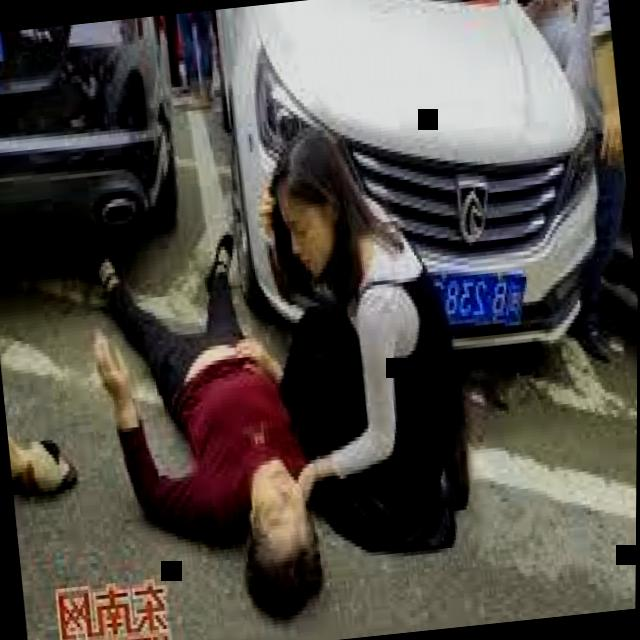Fall-Detected: (70, 196, 357, 620)
